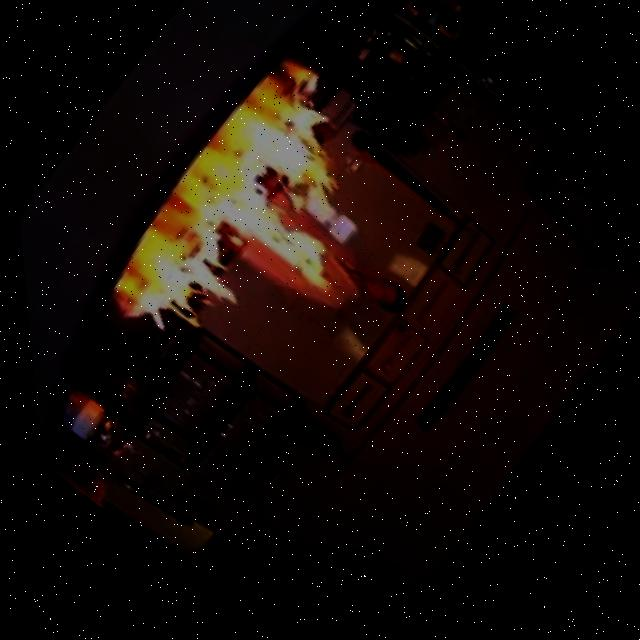Fire: (88, 55, 450, 424)
